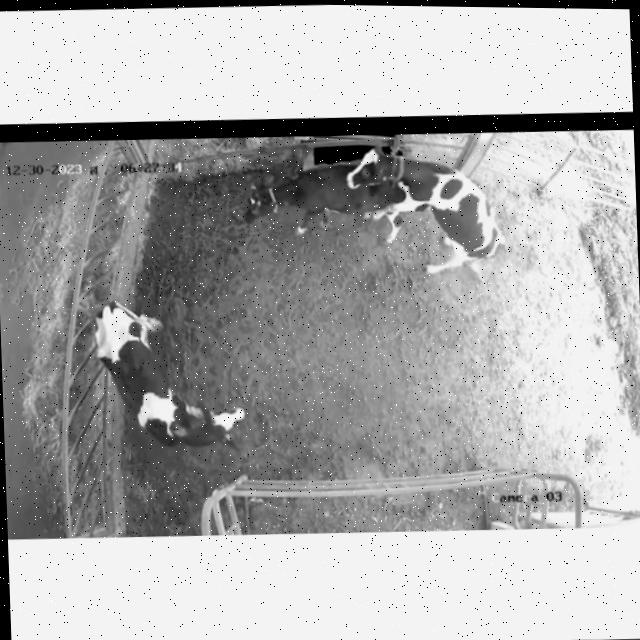ride: (339, 136, 518, 299)
